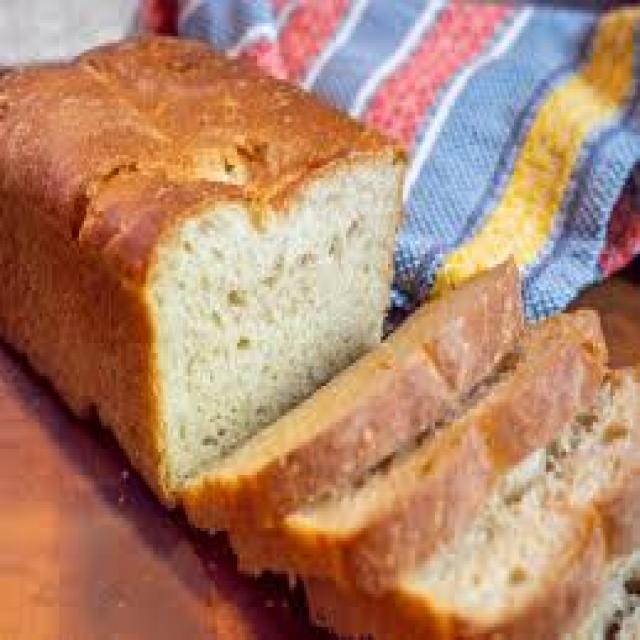organic waste: (0, 26, 408, 502), (225, 300, 608, 591), (178, 254, 521, 528), (302, 363, 638, 637)
